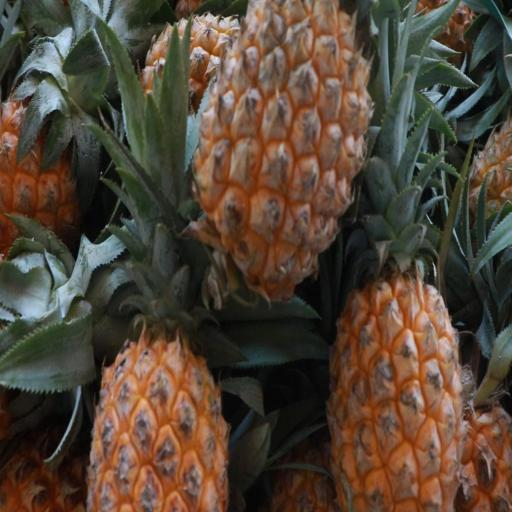Pineapple - v8 v1: (184, 4, 378, 313), (324, 151, 471, 512), (84, 239, 234, 512), (0, 43, 108, 258)
